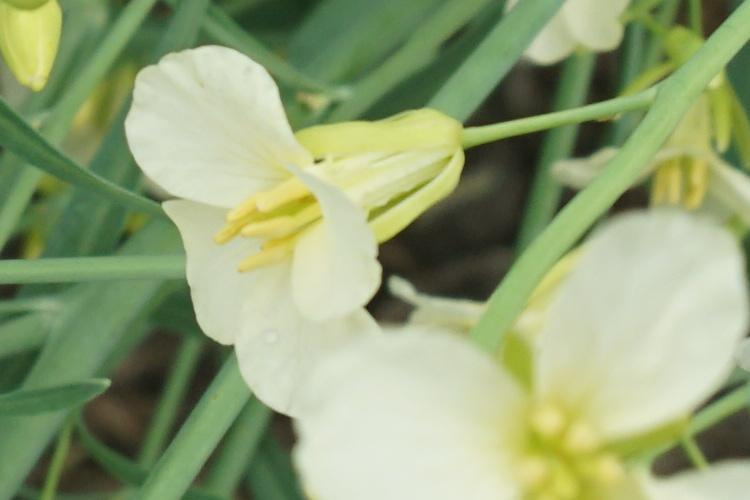white: (323, 219, 741, 483), (114, 51, 496, 328)
